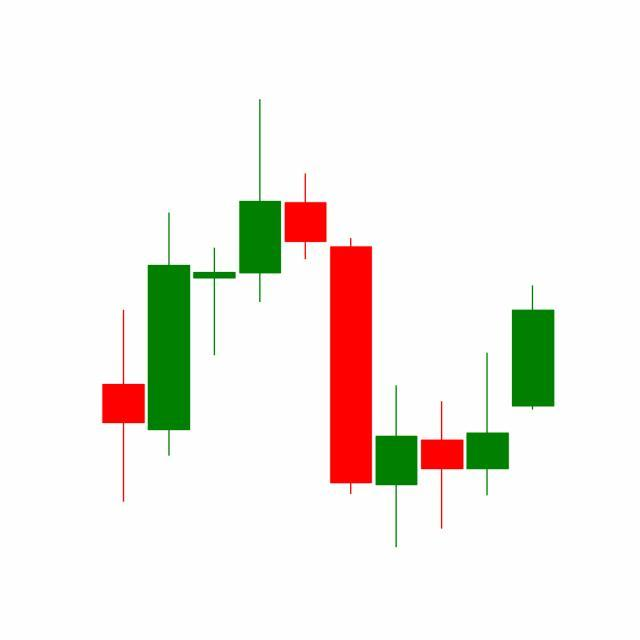Hikkake Pattern: (283, 169, 512, 548)
